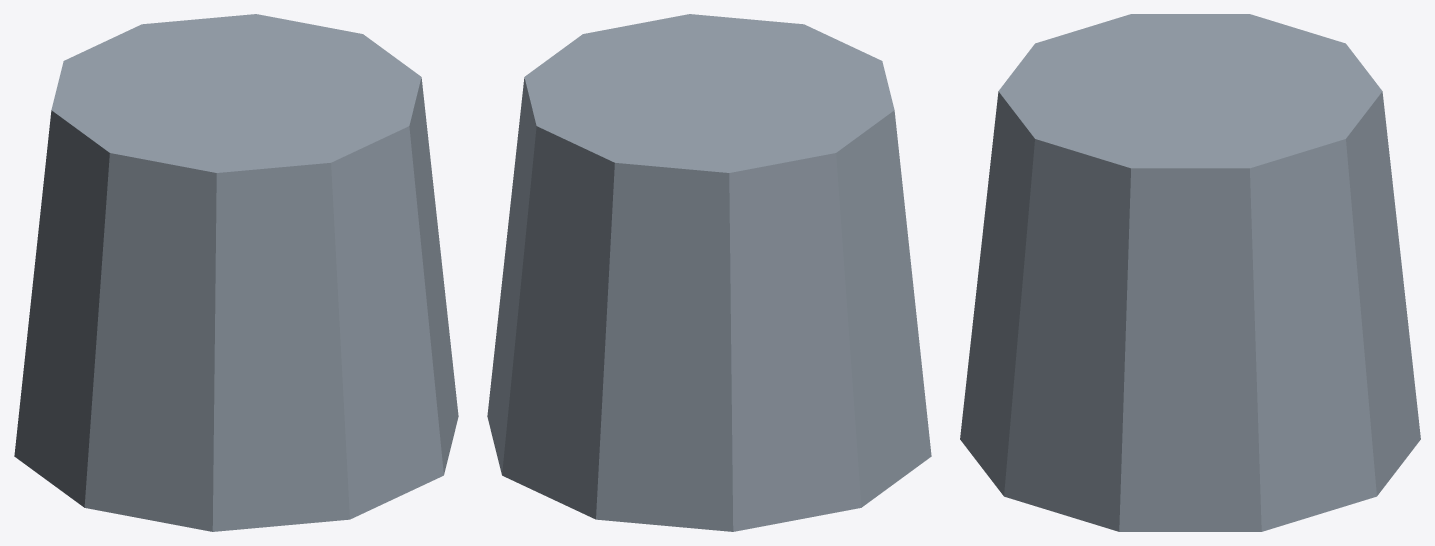
Rendered from Horse_Bucket.fbx.
3 renders of one model, left to right at view 1: azimuth 30°, elevation 25°; view 2: azimuth 150°, elevation 25°; view 3: azimuth 270°, elevation 25°, orthographic.
Visible parts, largest first — view 1: Bucket; view 2: Bucket; view 3: Bucket.
Boxes of the visible parts, x1,y1,x2,y2 form: Bucket: (14, 14, 458, 531); Bucket: (487, 14, 931, 531); Bucket: (960, 14, 1420, 531).
Bounding box in the file's own units: 0.3424 × 0.3 × 0.36.
